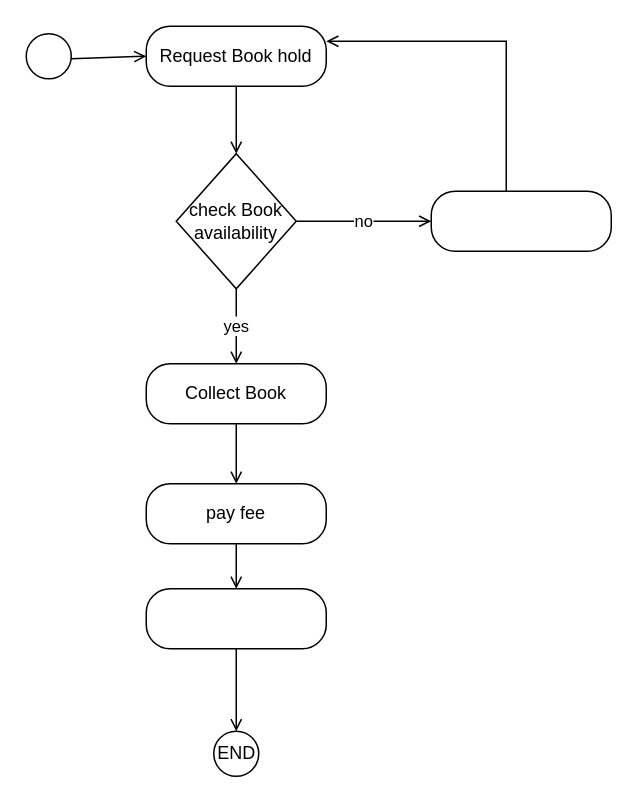
The diagram is 638 pixels wide and 803 high, and some of its shapes have lost their labels. Here are the shapes that lost their labels. From the top down, the box of each, then its label:
(25, 32, 71, 79): Start
(430, 190, 611, 251): Cancel Hold
(145, 587, 326, 649): return book
